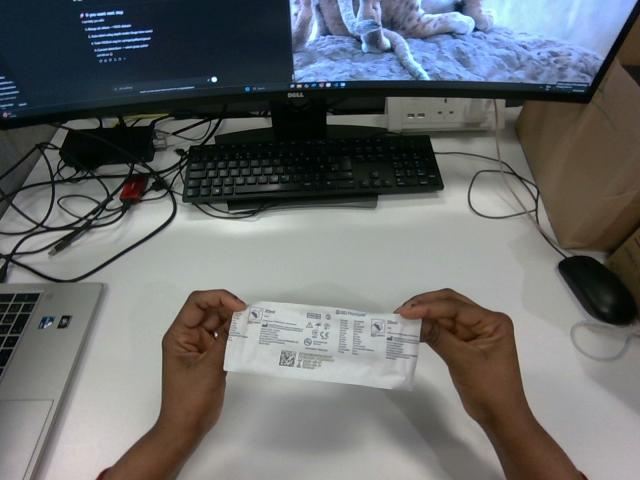syringe: (224, 302, 420, 389)
